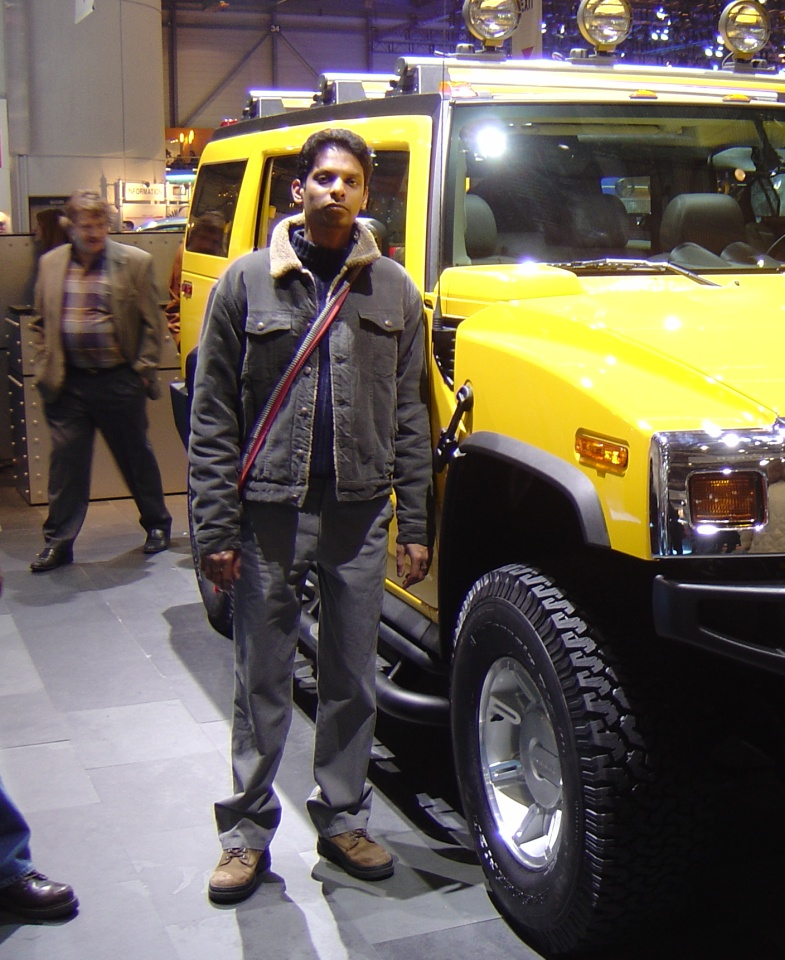person: (215, 122, 413, 912), (28, 191, 167, 573)
